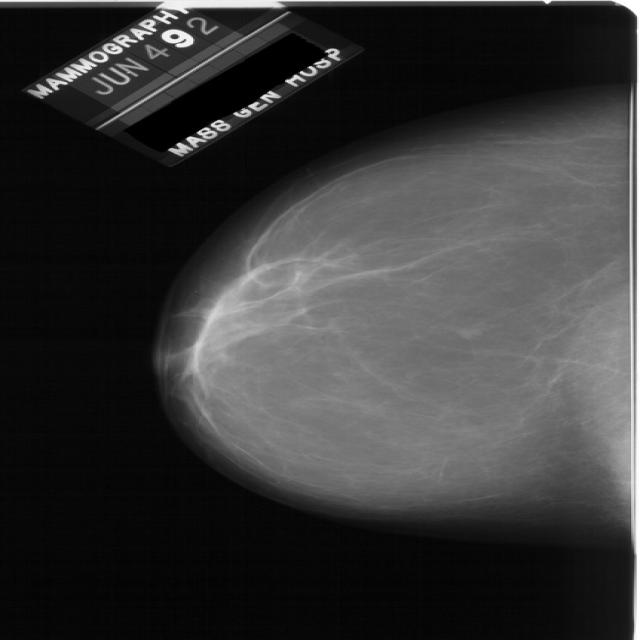tumour: (454, 323, 486, 337)
